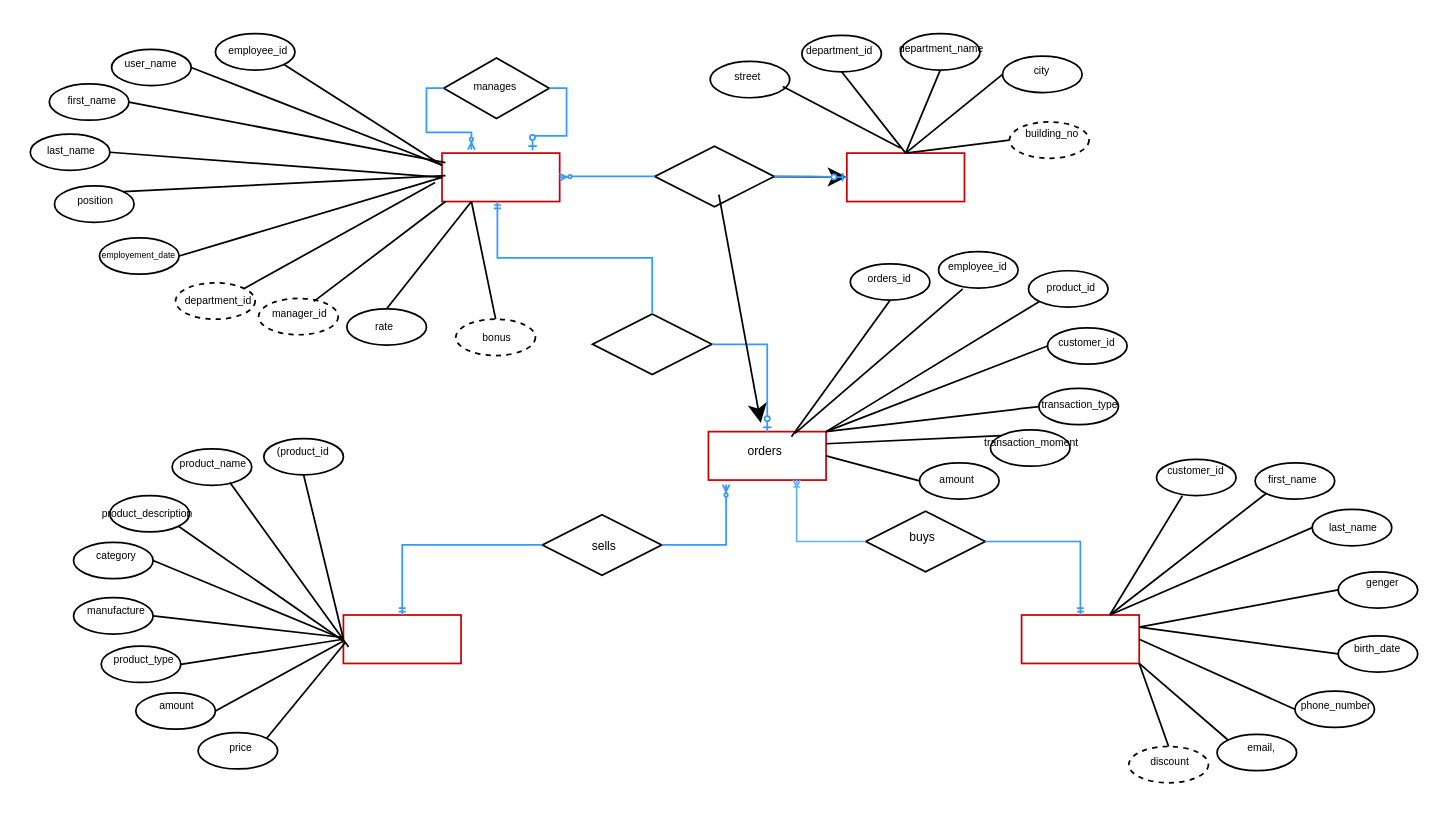
Some shapes in this 1448 by 813 pixel diagram are drawn without their labels. Each missing label, with the centre of its shape:
"customer" goes at (1079,638).
"department" goes at (904,176).
"employee" goes at (500,176).
"places" goes at (651,343).
"product" goes at (401,638).
"works_for" goes at (713,175).
